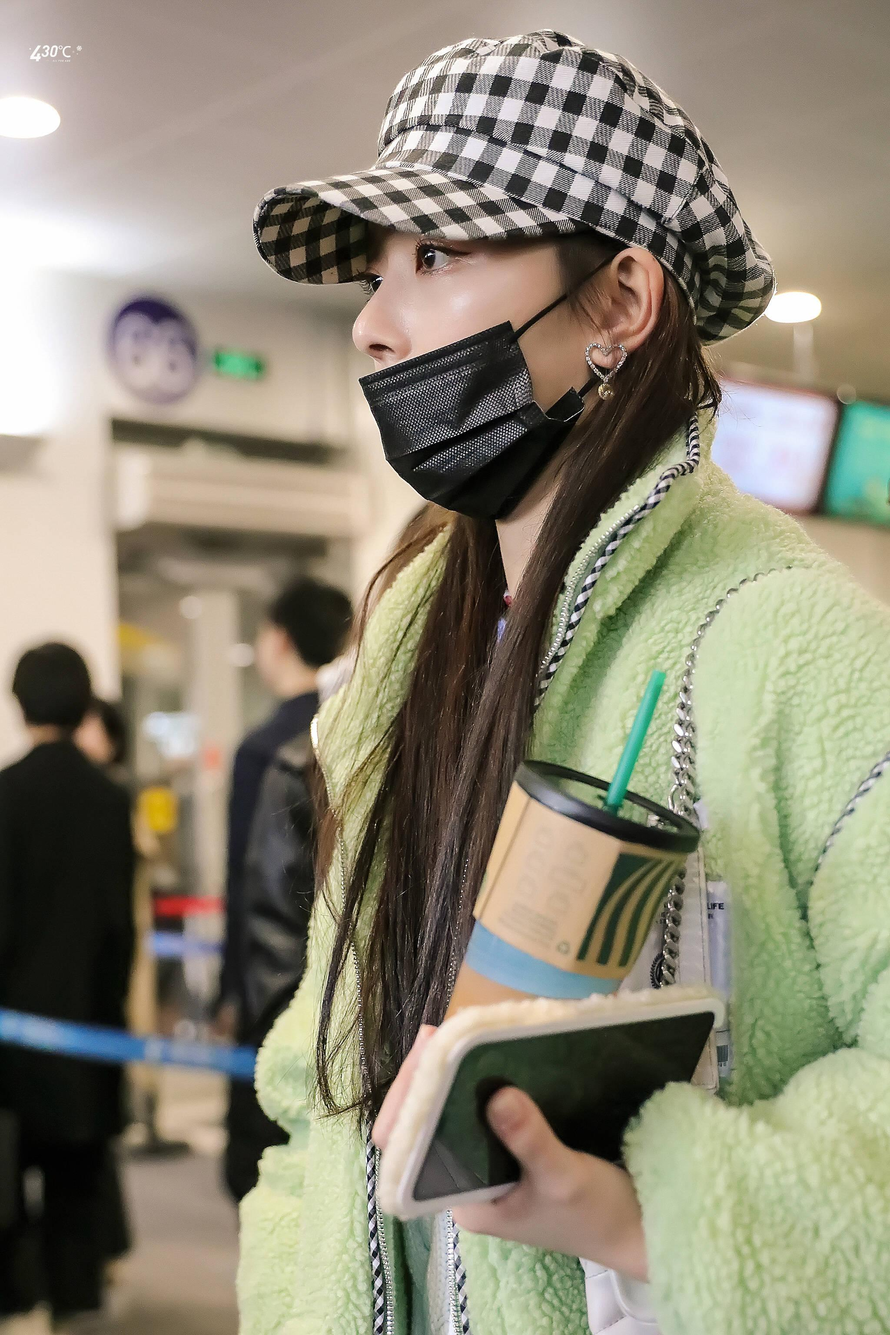WRONG: (347, 218, 568, 516)
